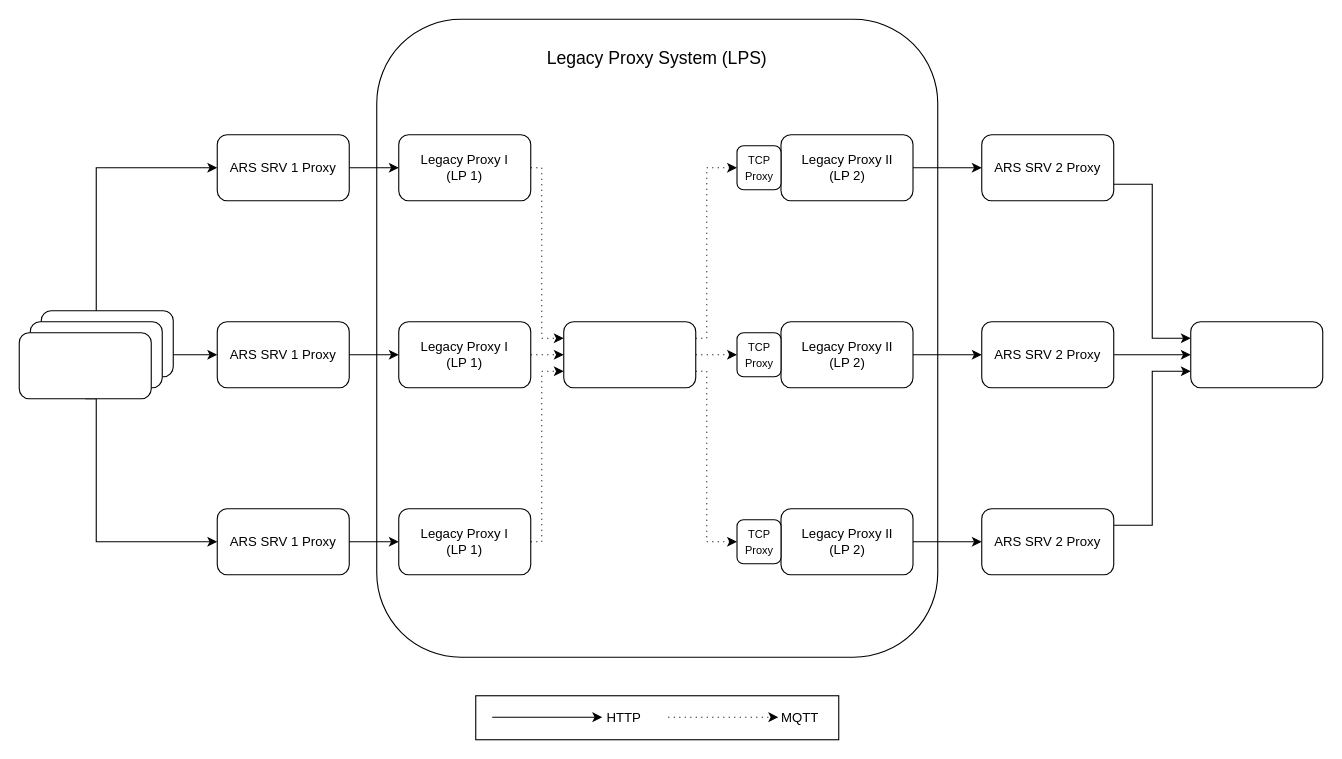
Image size: 1342x759. Some labels were removed from this diagram. Here are the shapes that lost their labels. From the top down, the centre of each, then its label:
At (x=84, y=365): "Alarmanlagen".
At (x=629, y=354): "MQTT Broker".
At (x=1256, y=354): "Server".
